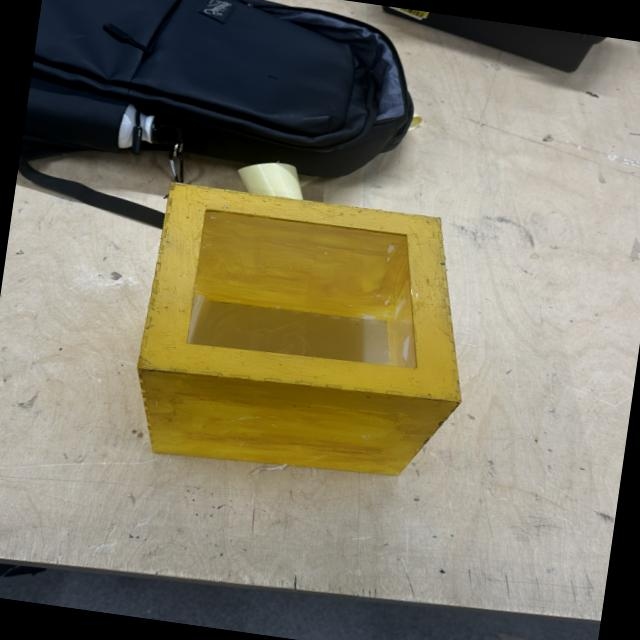yellow_bin: (124, 178, 488, 495)
